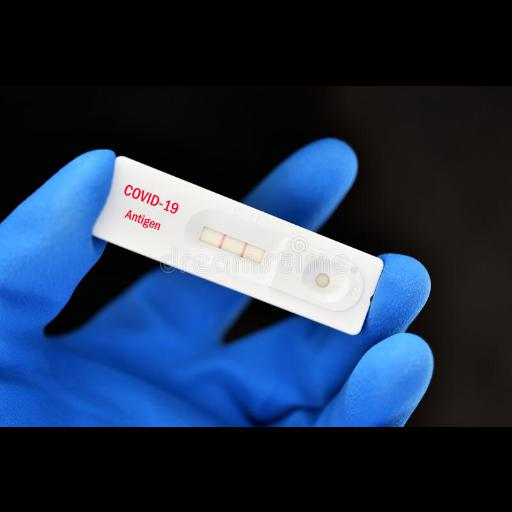Pos: (90, 154, 386, 335)
